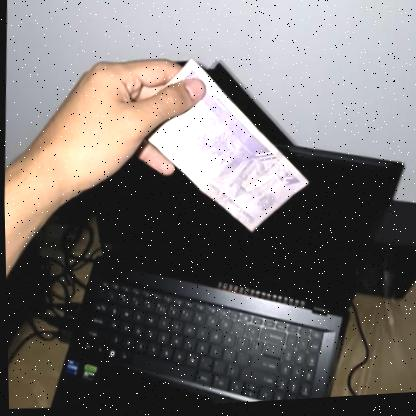ten-back-vef: (118, 54, 313, 242)
